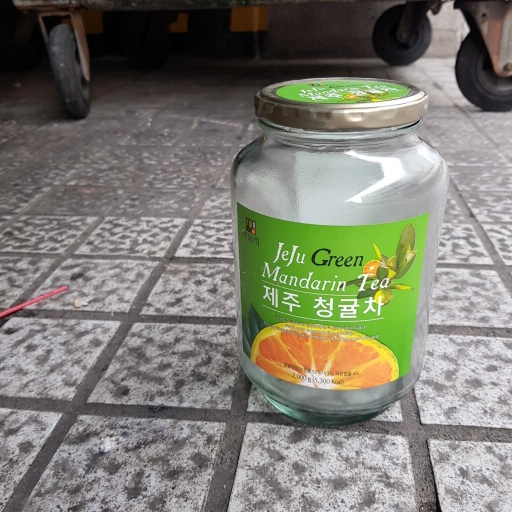Glass_5: (221, 74, 449, 434)
